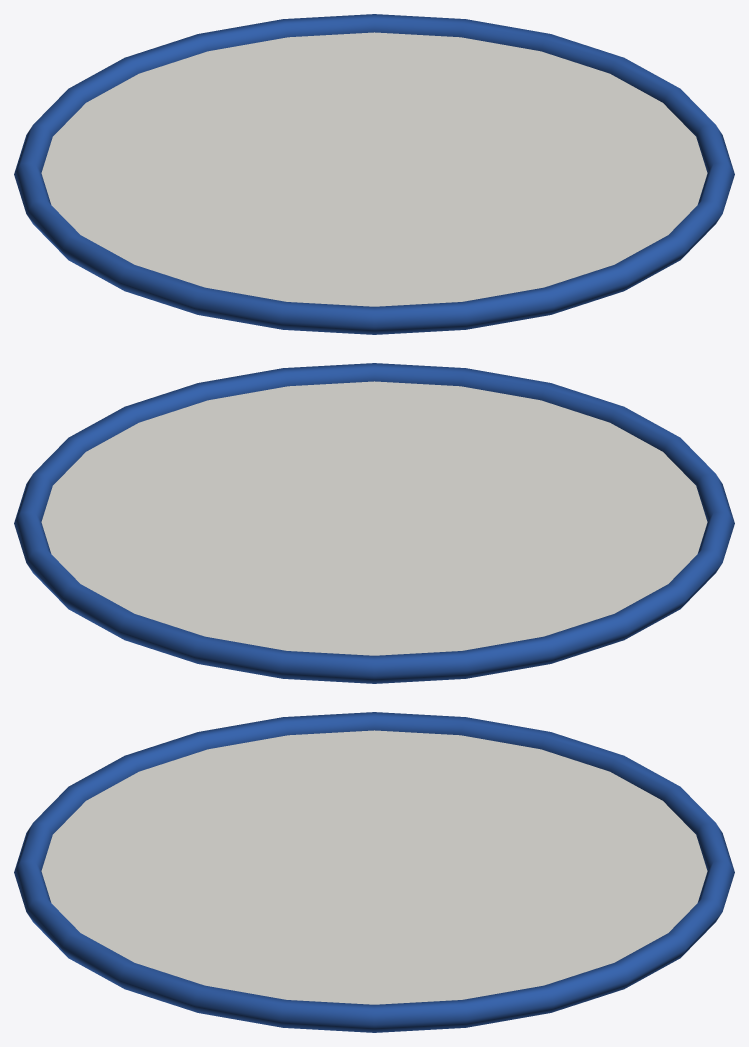
The model's file is plate.glb.
The picture shows the model from 3 angles, top to bottom: view 1: azimuth 30°, elevation 25°; view 2: azimuth 150°, elevation 25°; view 3: azimuth 270°, elevation 25°; orthographic projection.
Visible parts, largest first — view 1: plate; view 2: plate; view 3: plate.
Part boxes in pixels (x1=…): plate: x1=14, y1=14, x2=734, y2=334; plate: x1=14, y1=363, x2=734, y2=683; plate: x1=14, y1=712, x2=734, y2=1032.
Bounding box in the file's own units: 0.51 × 0.0427 × 0.51.
